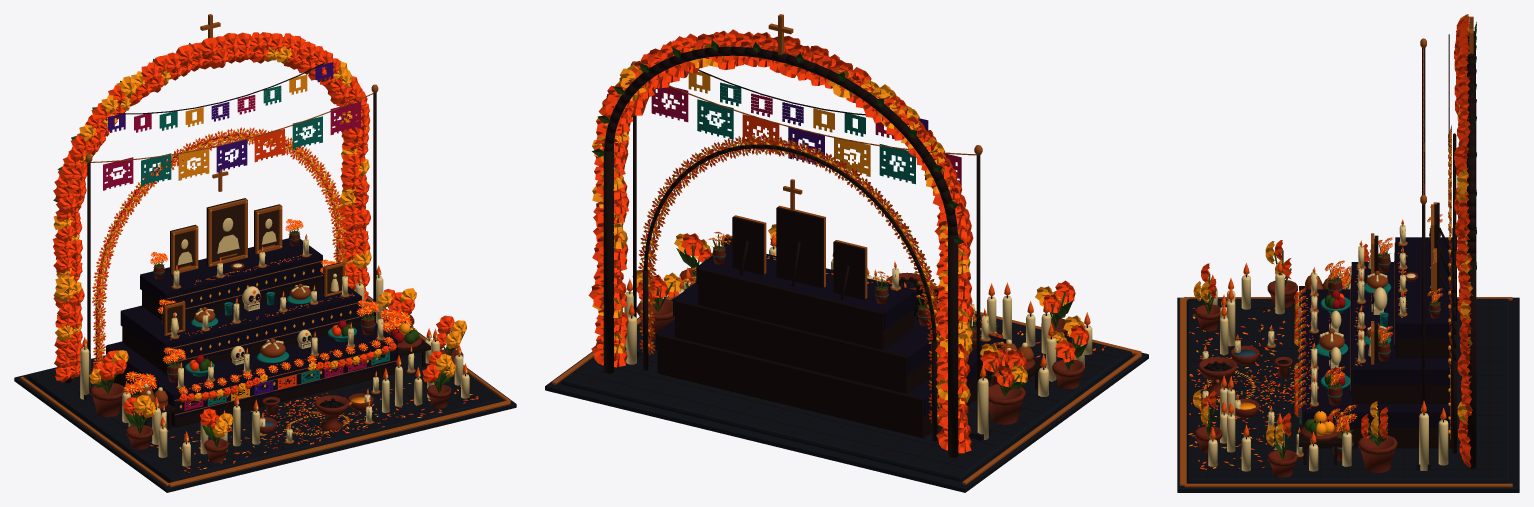
The model's file is ofrenda_mixquic_v2.obj.
3 renders of one model, left to right at view 1: azimuth 30°, elevation 25°; view 2: azimuth 150°, elevation 25°; view 3: azimuth 270°, elevation 25°, orthographic. The views are drawn at different scales.
Visible parts, largest first — view 1: Ofrenda_Mixquic_V2; view 2: Ofrenda_Mixquic_V2; view 3: Ofrenda_Mixquic_V2.
Part boxes in pixels (x1,y1,x2,y2): Ofrenda_Mixquic_V2: (14,14,516,492); Ofrenda_Mixquic_V2: (545,14,1148,492); Ofrenda_Mixquic_V2: (1177,14,1519,492).
Bounding box in the file's own units: 6.48 × 6 × 4.9.
